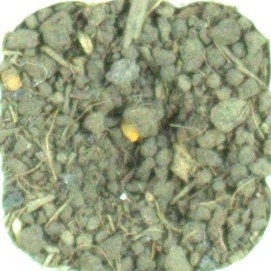pepper seed: (43, 42, 192, 186)
